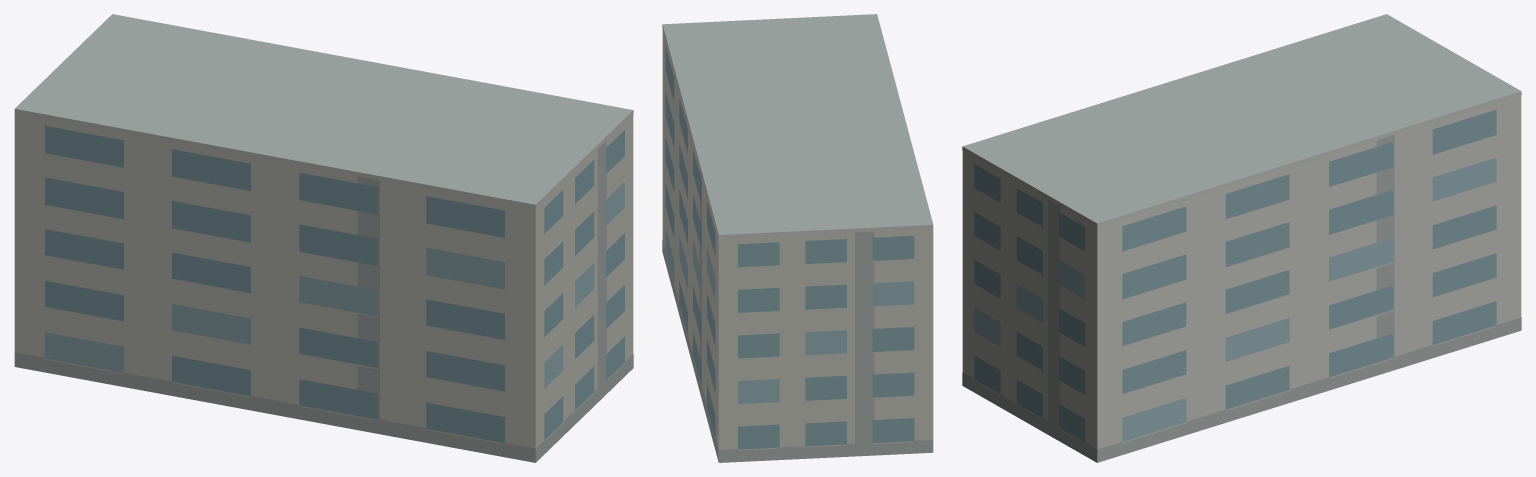
The model's file is residential-231288fb-3ff4-416a-94dd-a575f8699cbd.glb.
The picture shows the model from 3 angles, left to right: view 1: azimuth 30°, elevation 25°; view 2: azimuth 150°, elevation 25°; view 3: azimuth 270°, elevation 25°; orthographic projection. The views are drawn at different scales.
Visible parts, largest first — view 1: residential-231288fb-3ff4-416a-94dd-a575f8699cbd.tmp; view 2: residential-231288fb-3ff4-416a-94dd-a575f8699cbd.tmp; view 3: residential-231288fb-3ff4-416a-94dd-a575f8699cbd.tmp.
Part boxes in pixels (left/top/right/bottom): residential-231288fb-3ff4-416a-94dd-a575f8699cbd.tmp: left=14, top=14, right=633, bottom=462; residential-231288fb-3ff4-416a-94dd-a575f8699cbd.tmp: left=662, top=14, right=933, bottom=462; residential-231288fb-3ff4-416a-94dd-a575f8699cbd.tmp: left=962, top=14, right=1521, bottom=462.
Bounding box in the file's own units: 26.47 × 14.1 × 29.84.
